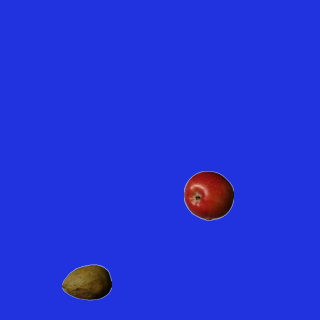Apple Braeburn: (183, 170, 233, 220)
Papaya: (61, 257, 111, 307)
